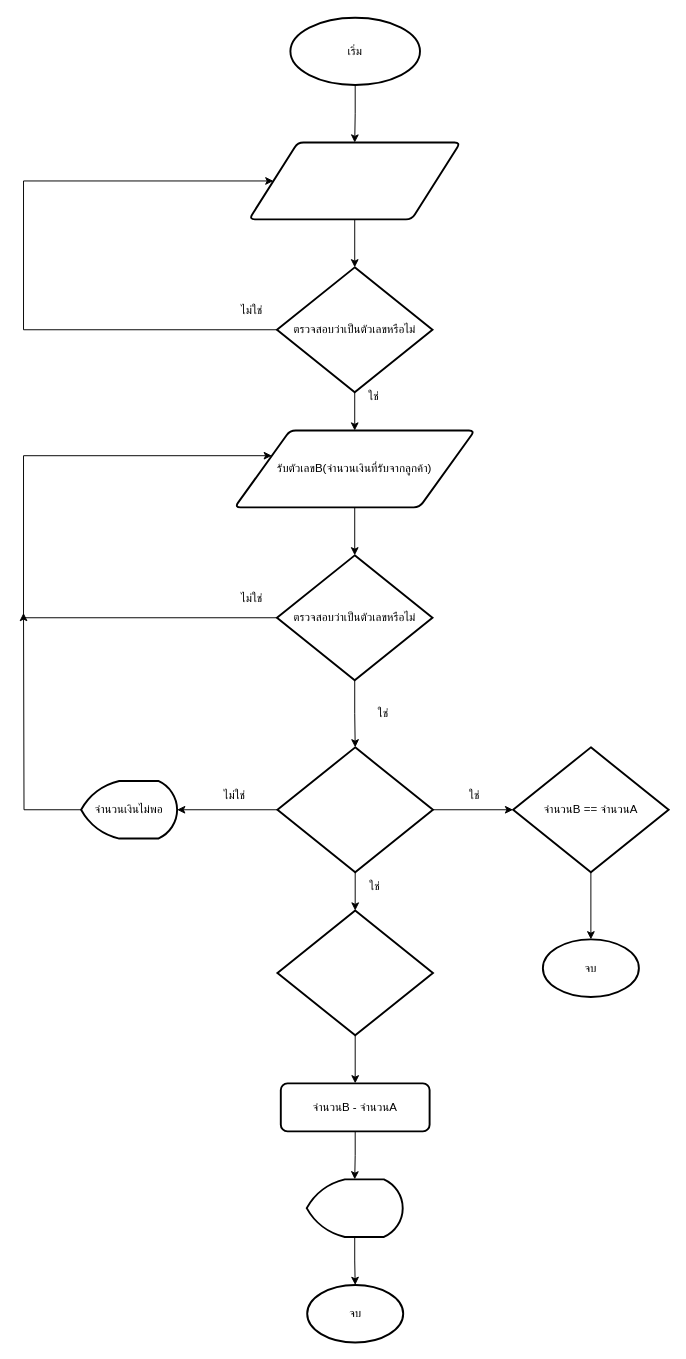
Image size: 686x1359. Some labels were removed from this diagram. The shapes that lost their labels are listed below. From the top down, each one's centre as x and y in pixels, then its label:
At point (354, 180): "รับตัวเลขA (มูลค่ารวมสินค้า)".
At point (354, 809): "ตรวจสอบว่าจำนวนเงินพอหรือไม่".
At point (354, 972): "จำนวนฺB > จำนวนA".
At point (354, 1207): "ทอนเงิน".
